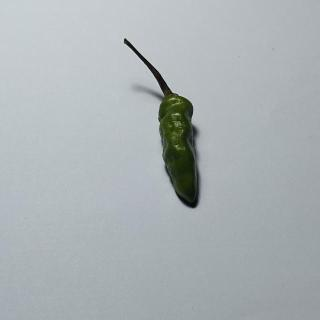Cabai Hijau: (116, 34, 208, 216)
